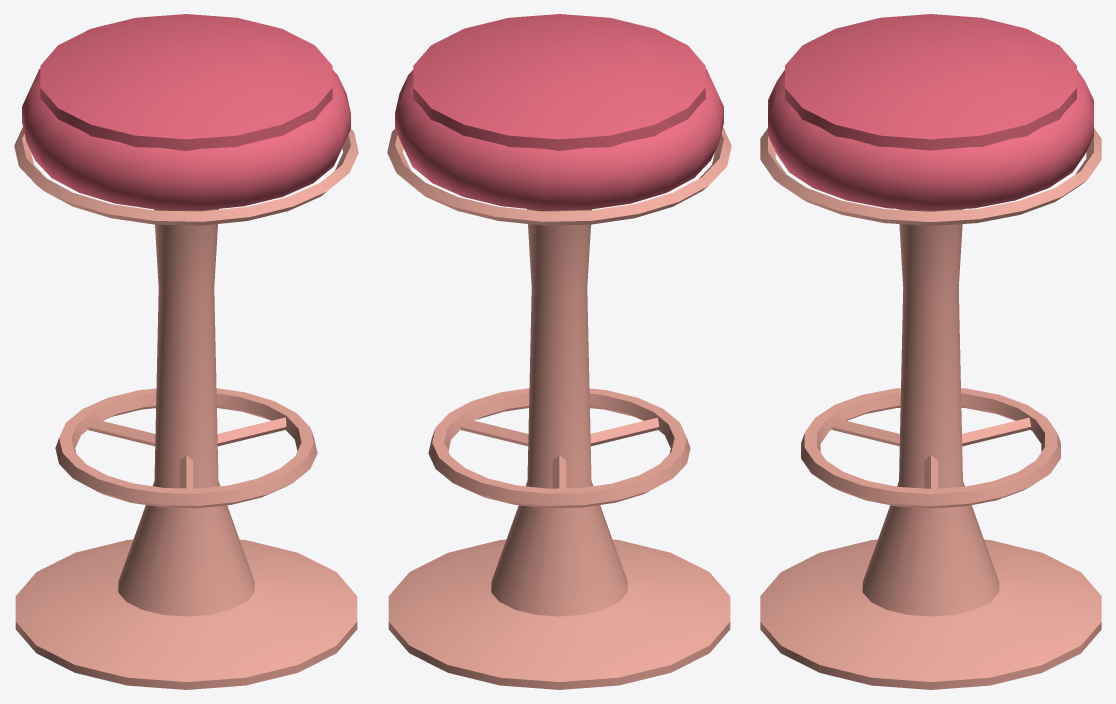
Rendered from stool_bar_rose.glb.
The picture shows the model from 3 angles, left to right: view 1: azimuth 30°, elevation 25°; view 2: azimuth 150°, elevation 25°; view 3: azimuth 270°, elevation 25°; orthographic projection.
Visible parts, largest first — view 1: stool_bar_rose; view 2: stool_bar_rose; view 3: stool_bar_rose.
Part boxes in pixels (box(x1,y1,x2,y2)): stool_bar_rose: box(14, 14, 358, 689); stool_bar_rose: box(387, 14, 731, 689); stool_bar_rose: box(760, 14, 1101, 689).
Bounding box in the file's own units: 0.4 × 0.72 × 0.3939.
